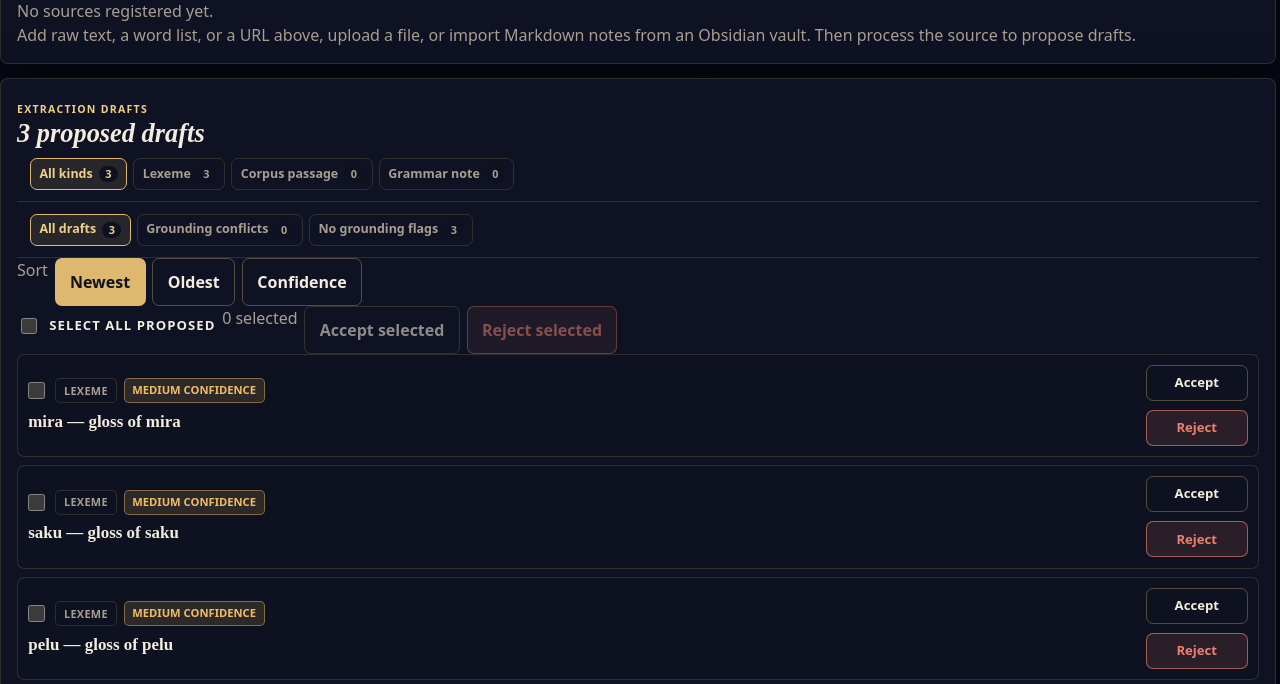
Test case: IngestView bulk draft review › localizes expired-session errors from single-draft accept
(page scrolled)
Expected: the heading "3 proposed drafts" is shown, [17,119,205,147]
Click the button with aria-label "Accept draft draft-1": (1197, 383) [1146,365,1248,401]
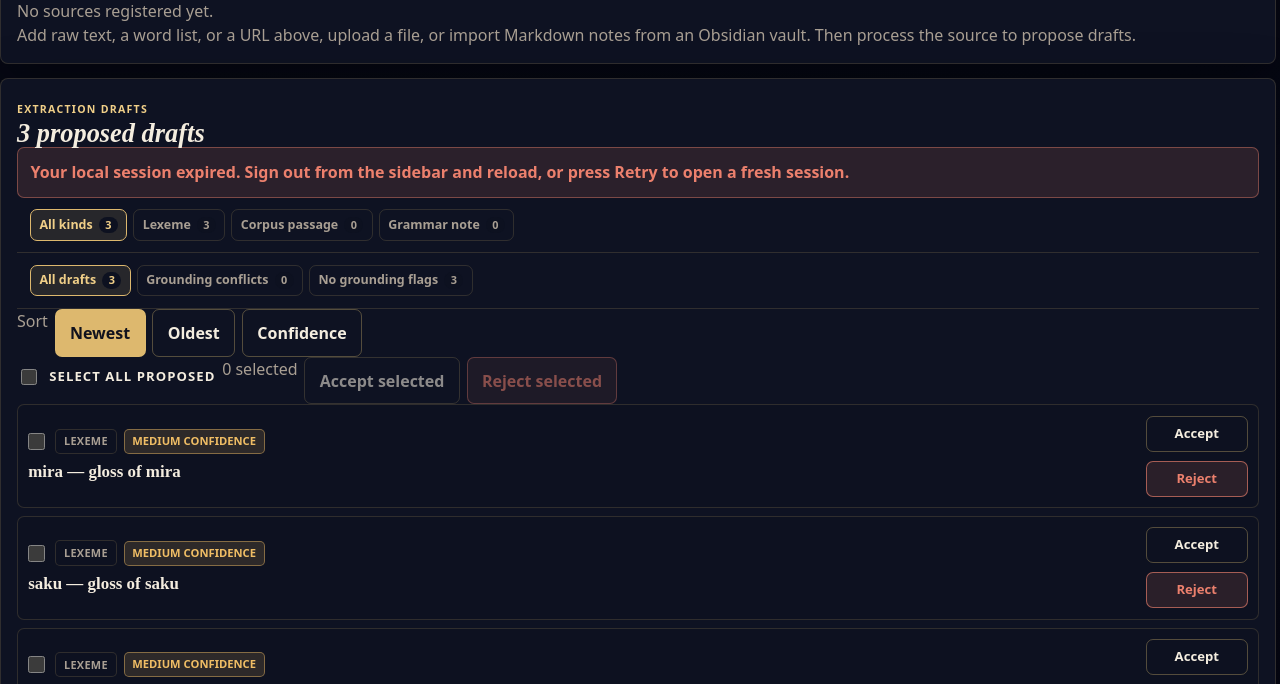
Expected: the text "Your local session expired. Sign out from the sidebar and reload, or press Retry to open a fresh session." is shown, [30,161,849,183]
